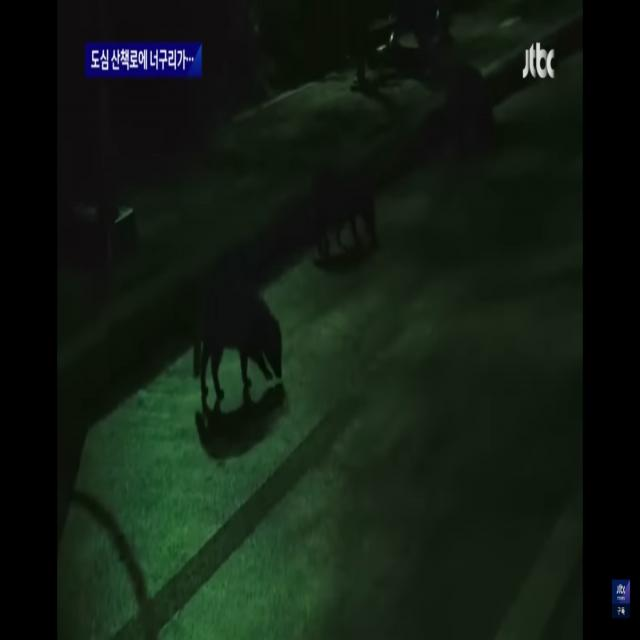racoon: (196, 254, 287, 424)
